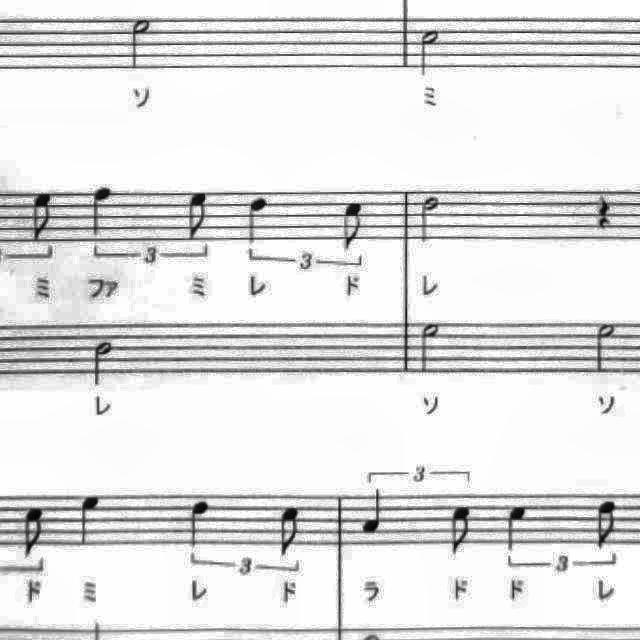Eighth-note: (17, 499, 55, 566), (443, 500, 479, 564), (588, 495, 624, 557), (272, 501, 308, 563), (336, 196, 372, 256), (183, 185, 217, 243), (22, 186, 56, 244)
Half-note: (588, 316, 624, 380), (124, 11, 160, 73), (412, 23, 448, 83), (414, 318, 446, 380), (87, 334, 121, 390), (415, 190, 445, 248)
Quarter-note: (73, 488, 111, 552), (182, 494, 218, 554), (500, 498, 536, 556), (239, 190, 275, 247), (86, 182, 120, 242), (358, 486, 392, 542)
Quarter-rest: (588, 188, 620, 234)
